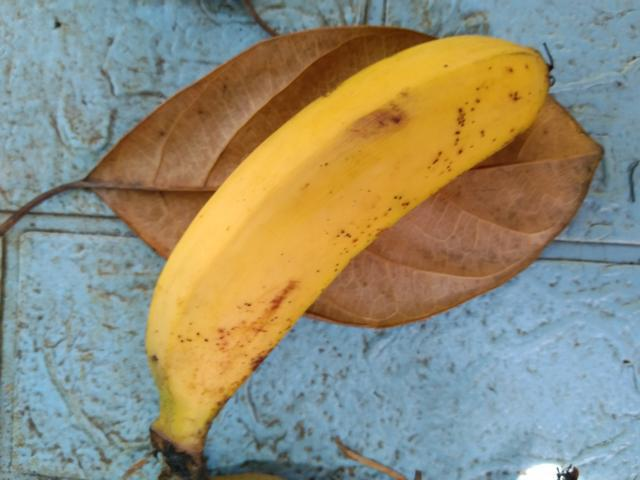ripe: (123, 33, 550, 426)
